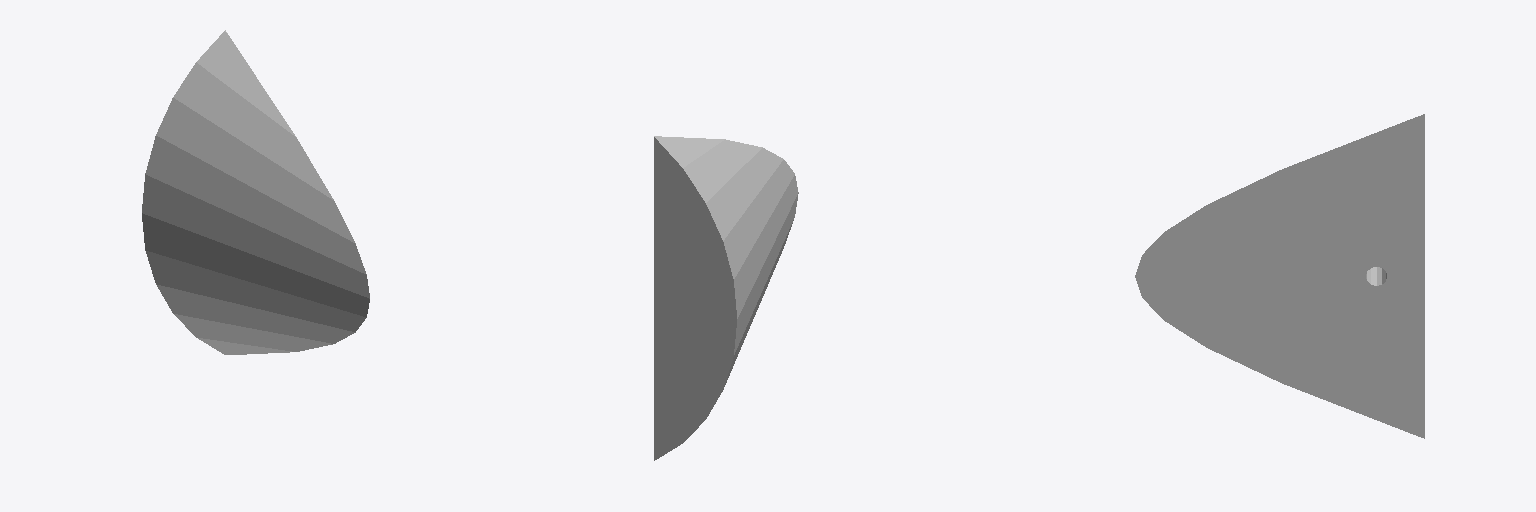
The model's file is hyperbola.obj.
3 views of the same model, side by side, from view 1: azimuth 30°, elevation 25°; view 2: azimuth 150°, elevation 25°; view 3: azimuth 270°, elevation 25° (orthographic).
Parts seen in each view (by area): view 1: <STL_BINARY>; view 2: <STL_BINARY>; view 3: <STL_BINARY>.
Part boxes in pixels (bbox=[...]): <STL_BINARY>: bbox=[142, 30, 369, 354]; <STL_BINARY>: bbox=[654, 136, 798, 460]; <STL_BINARY>: bbox=[1135, 114, 1424, 438].
Bounding box in the file's own units: 18 × 66.75 × 53.99.